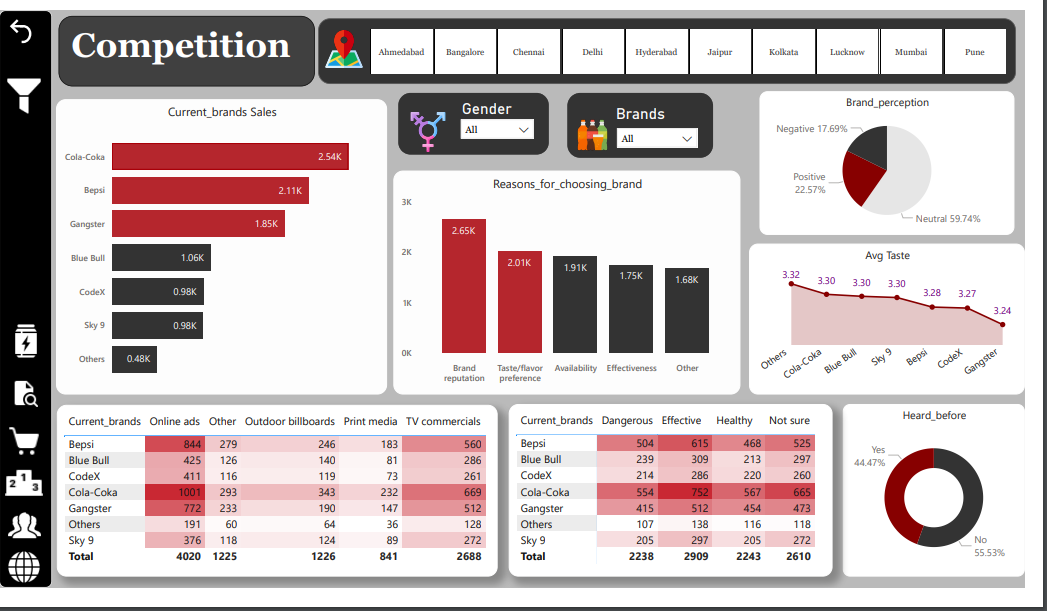

The page's visual inventory and layout, read from the dashboard file:
{"tool":"powerbi","page":{"name":"Competition","canvas":[1280,720],"ordinal":3},"visuals":[{"type":"shape","box":[0,0,65.5,720.1],"z":0,"group":"g5"},{"type":"shape","box":[74.5,6.9,320.4,88.3],"z":0,"group":"g2"},{"type":"shape","box":[397.9,9.7,871,82.1],"z":0,"group":"g1"},{"type":"shape","box":[498.3,102.5,188.2,77.3],"z":0,"group":"g4"},{"type":"shape","box":[708.2,102.5,182.2,81.5],"z":0,"group":"g3"},{"type":"barChart","title":" Current_brands Sales","fields":{"Category":["Survey_responses.Current_brands"],"Y":["Measure.Total Responses"]},"box":[70.9,111.3,413.6,367.3],"z":0},{"type":"actionButton","box":[7.2,6.2,57.6,39.7],"z":1000,"group":"g5"},{"type":"textbox","box":[85.1,14.4,319.7,63.9],"z":1000,"group":"g2"},{"type":"image","box":[401.7,15.6,56.7,63.9],"z":1000,"group":"g1"},{"type":"pieChart","title":"Brand_perception","fields":{"Y":["Measure.Total Responses"],"Category":["Survey_responses.Brand_perception"]},"box":[949.5,101.3,317.3,178.6],"z":1000},{"type":"slicer","title":"Gender","fields":{"Values":["Repondents.Gender"]},"box":[566.1,125,111,79.6],"z":1000,"group":"g4"},{"type":"slicer","title":"Gender","fields":{"Values":["Survey_responses.Current_brands"]},"box":[760.5,136.3,120.5,77.9],"z":1000,"group":"g3"},{"type":"slicer","fields":{"Values":["CIties.City"]},"box":[436.7,16.9,843.3,68.8],"z":2000,"group":"g1"},{"type":"textbox","box":[572.9,105.9,145,40.4],"z":2000,"group":"g4"},{"type":"image","box":[699.7,129.9,80.7,51.1],"z":2000,"group":"g3"},{"type":"columnChart","title":"Reasons_for_choosing_brand","fields":{"Category":["Survey_responses.Reasons_for_choosing_brands"],"Y":["Measure.Total Responses"]},"box":[492.2,200.3,433.1,278.7],"z":2000},{"type":"image","box":[0.9,668.4,60.3,51.9],"z":2000,"group":"g5"},{"type":"textbox","box":[765.2,111.2,94.8,40.3],"z":3000,"group":"g3"},{"type":"image","box":[503.8,122.7,63.2,57.9],"z":3000,"group":"g4"},{"type":"lineChart","title":"Avg Taste","fields":{"Category":["Survey_responses.Current_brands"],"Y":["Measure.Avg Taste Exp"]},"box":[936.2,290.8,343.8,188.2],"z":3000},{"type":"image","box":[0,384.9,65.1,54.3],"z":3000,"group":"g5"},{"type":"donutChart","title":"Heard_before","fields":{"Y":["Measure.Total Responses"],"Category":["Survey_responses.Heard_before"]},"box":[1053.2,491,226.8,214.7],"z":4000},{"type":"image","box":[0.9,512.7,60.3,49.5],"z":4000,"group":"g5"},{"type":"pivotTable","fields":{"Values":["Measure.Total Responses"],"Rows":["Survey_responses.Current_brands"],"Columns":["Survey_responses.Marketing_channels"]},"box":[72.3,491.6,549.5,214],"z":5000},{"type":"image","box":[2.1,562.2,57.9,55.5],"z":5000,"group":"g5"},{"type":"pivotTable","fields":{"Values":["Measure.Total Responses"],"Rows":["Survey_responses.Current_brands"],"Columns":["Survey_responses.General_perception"]},"box":[635.8,491,404.2,214.7],"z":6000},{"type":"image","box":[2.1,617.7,57.9,50.7],"z":6000,"group":"g5"},{"type":"group","id":"g1","title":"city slicer","box":[397.9,9.7,882.1,82.1],"z":7000},{"type":"image","box":[0.9,454.8,60.3,44.6],"z":7000,"group":"g5"},{"type":"group","id":"g2","title":"Header","box":[74.5,6.9,330.7,88.3],"z":8000},{"type":"image","box":[3,76.6,56.4,59.3],"z":8000,"group":"g5"},{"type":"group","id":"g3","title":"Brands slicer","box":[699.7,102.5,190.6,112.2],"z":9000},{"type":"group","id":"g4","title":"age slicer","box":[498.3,102.5,219.6,102.5],"z":10000},{"type":"group","id":"g5","title":"page navigation","box":[0,0,65.5,720.2],"z":11000}]}

Visuals, with their boxes on the page's 1280x720 design canvas (x1, y1, x2, y2). These are canvas units, not pixel positions in the 1047x611 screenshot, which may show the page scaled, cropped or inside an application window:
shape: (x1=0, y1=0, x2=66, y2=720)
shape: (x1=74, y1=7, x2=395, y2=95)
shape: (x1=398, y1=10, x2=1269, y2=92)
shape: (x1=498, y1=102, x2=686, y2=180)
shape: (x1=708, y1=102, x2=890, y2=184)
" Current_brands Sales" barChart: (x1=71, y1=111, x2=484, y2=479)
actionButton: (x1=7, y1=6, x2=65, y2=46)
textbox: (x1=85, y1=14, x2=405, y2=78)
image: (x1=402, y1=16, x2=458, y2=80)
"Brand_perception" pieChart: (x1=950, y1=101, x2=1267, y2=280)
"Gender" slicer: (x1=566, y1=125, x2=677, y2=205)
"Gender" slicer: (x1=760, y1=136, x2=881, y2=214)
slicer - CIties.City: (x1=437, y1=17, x2=1280, y2=86)
textbox: (x1=573, y1=106, x2=718, y2=146)
image: (x1=700, y1=130, x2=780, y2=181)
"Reasons_for_choosing_brand" columnChart: (x1=492, y1=200, x2=925, y2=479)
image: (x1=1, y1=668, x2=61, y2=720)
textbox: (x1=765, y1=111, x2=860, y2=152)
image: (x1=504, y1=123, x2=567, y2=181)
"Avg Taste" lineChart: (x1=936, y1=291, x2=1280, y2=479)
image: (x1=0, y1=385, x2=65, y2=439)
"Heard_before" donutChart: (x1=1053, y1=491, x2=1280, y2=706)
image: (x1=1, y1=513, x2=61, y2=562)
pivotTable - Measure.Total Responses x Survey_responses.Current_brands: (x1=72, y1=492, x2=622, y2=706)
image: (x1=2, y1=562, x2=60, y2=618)
pivotTable - Measure.Total Responses x Survey_responses.Current_brands: (x1=636, y1=491, x2=1040, y2=706)
image: (x1=2, y1=618, x2=60, y2=668)
"city slicer" group: (x1=398, y1=10, x2=1280, y2=92)
image: (x1=1, y1=455, x2=61, y2=499)
"Header" group: (x1=74, y1=7, x2=405, y2=95)
image: (x1=3, y1=77, x2=59, y2=136)
"Brands slicer" group: (x1=700, y1=102, x2=890, y2=215)
"age slicer" group: (x1=498, y1=102, x2=718, y2=205)
"page navigation" group: (x1=0, y1=0, x2=66, y2=720)
